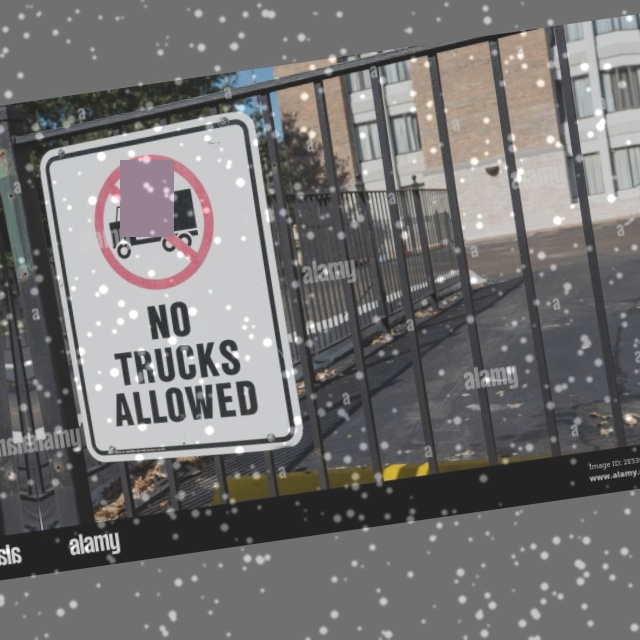Truck_Prohibited: (76, 135, 230, 309)
